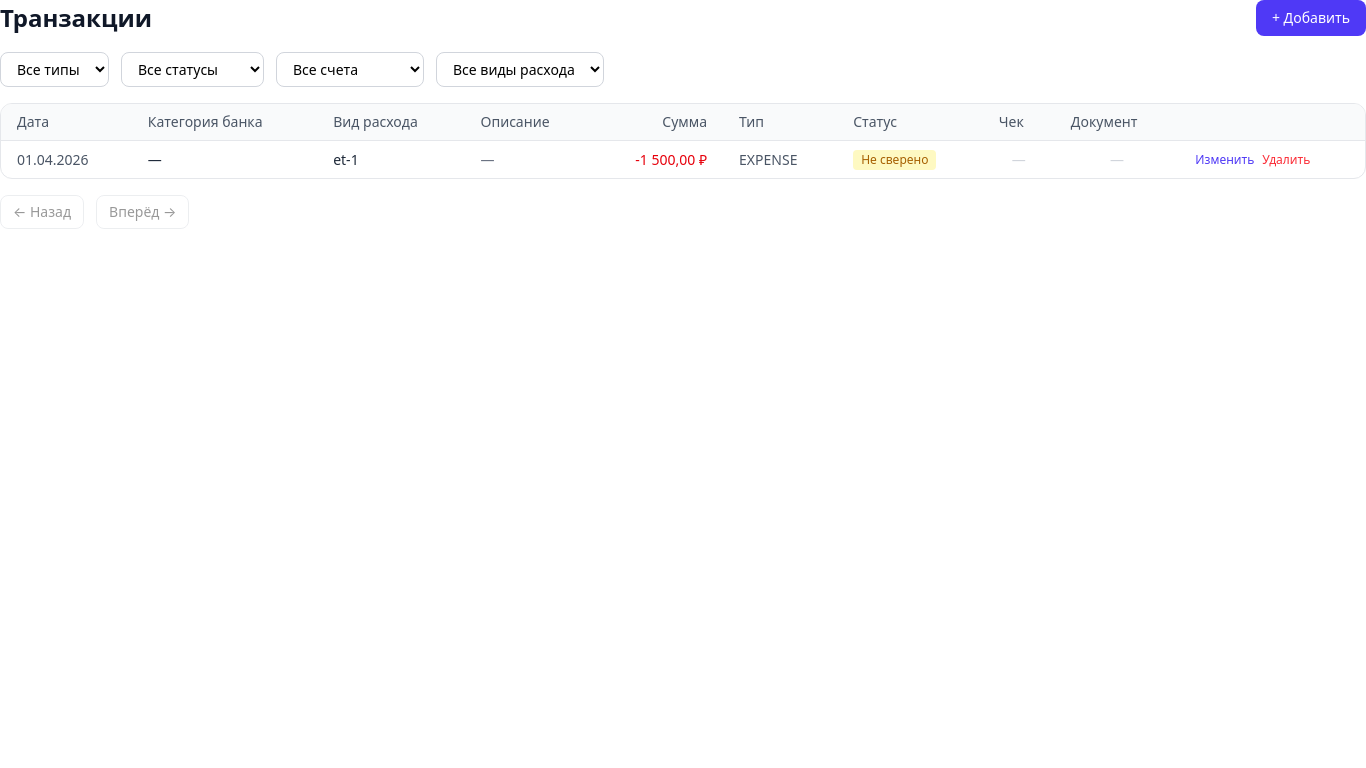
Test: Transactions page › opens TransactionEditModal when Изменить is clicked
This screenshot has width=1366, height=768.
Step 1. Click the button "Изменить" → (1225, 160), box [1195,152,1254,168]
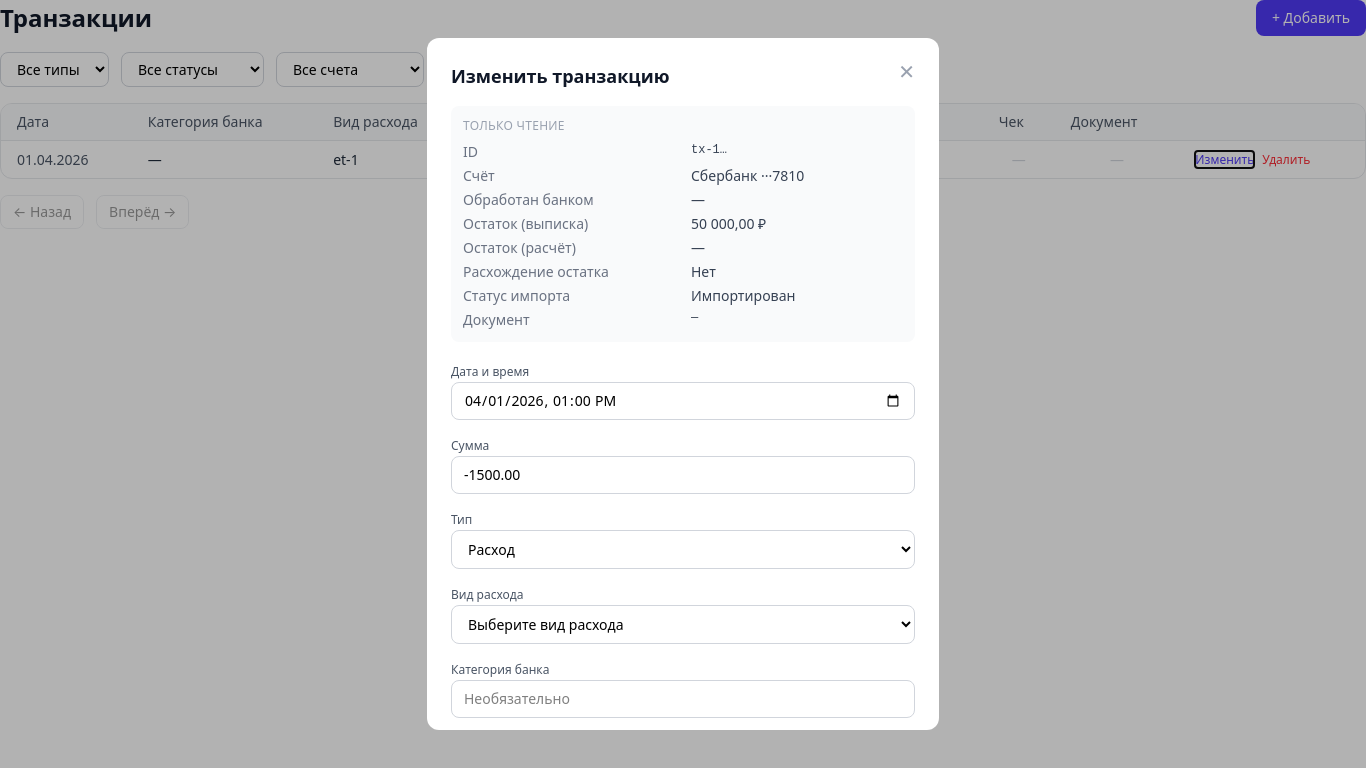
Now the heading "Изменить транзакцию" is shown, box [451,62,670,90]
